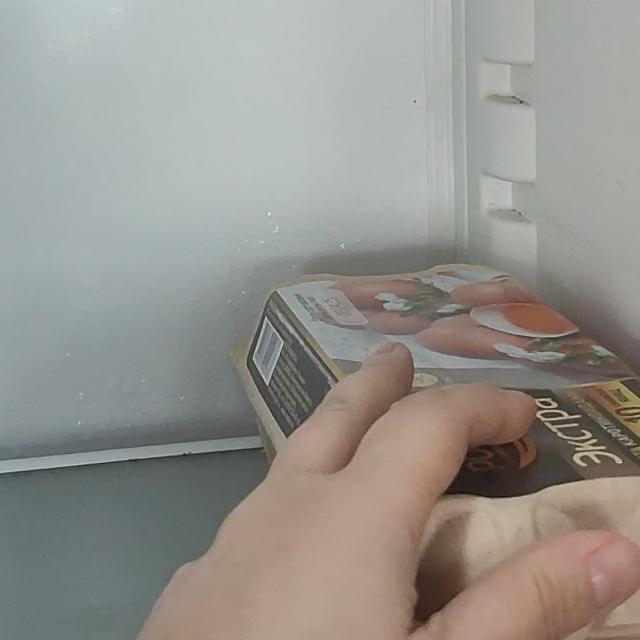egg: (236, 256, 640, 640)
